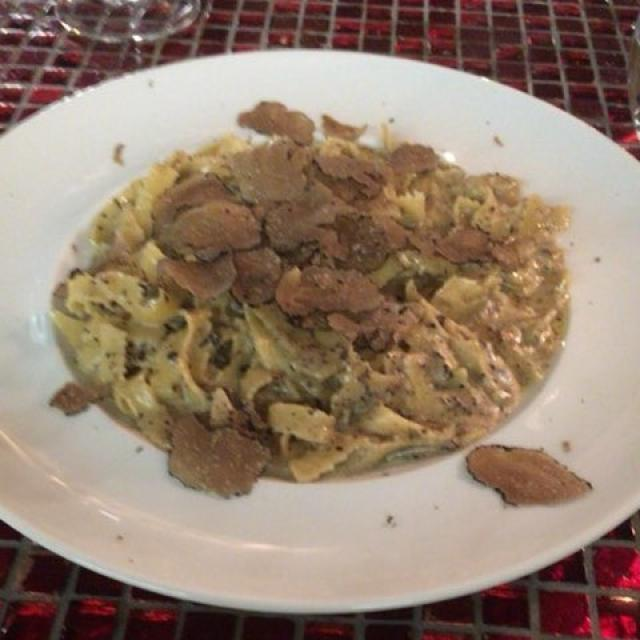pasta: (76, 126, 572, 480)
sauce: (90, 134, 543, 470)
